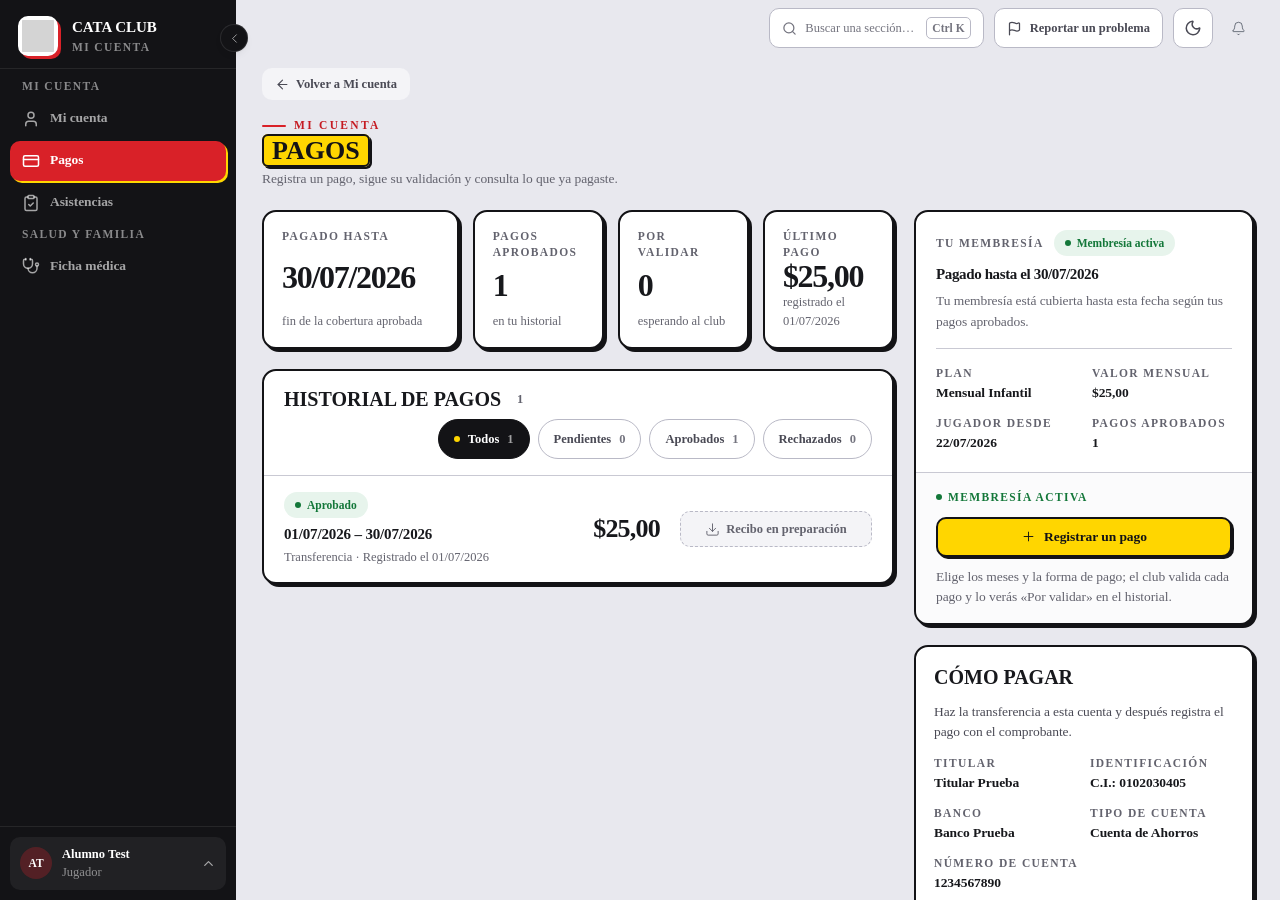
StudentPaymentsPage — the history › offers a way back when a filter empties the list
Expected: the list with test id "student-payments-table" is shown, top-left (264, 475), bottom-right (892, 582)
Click the button "Rechazados 0" at (817, 439), box top-left (762, 419), bottom-right (872, 459)
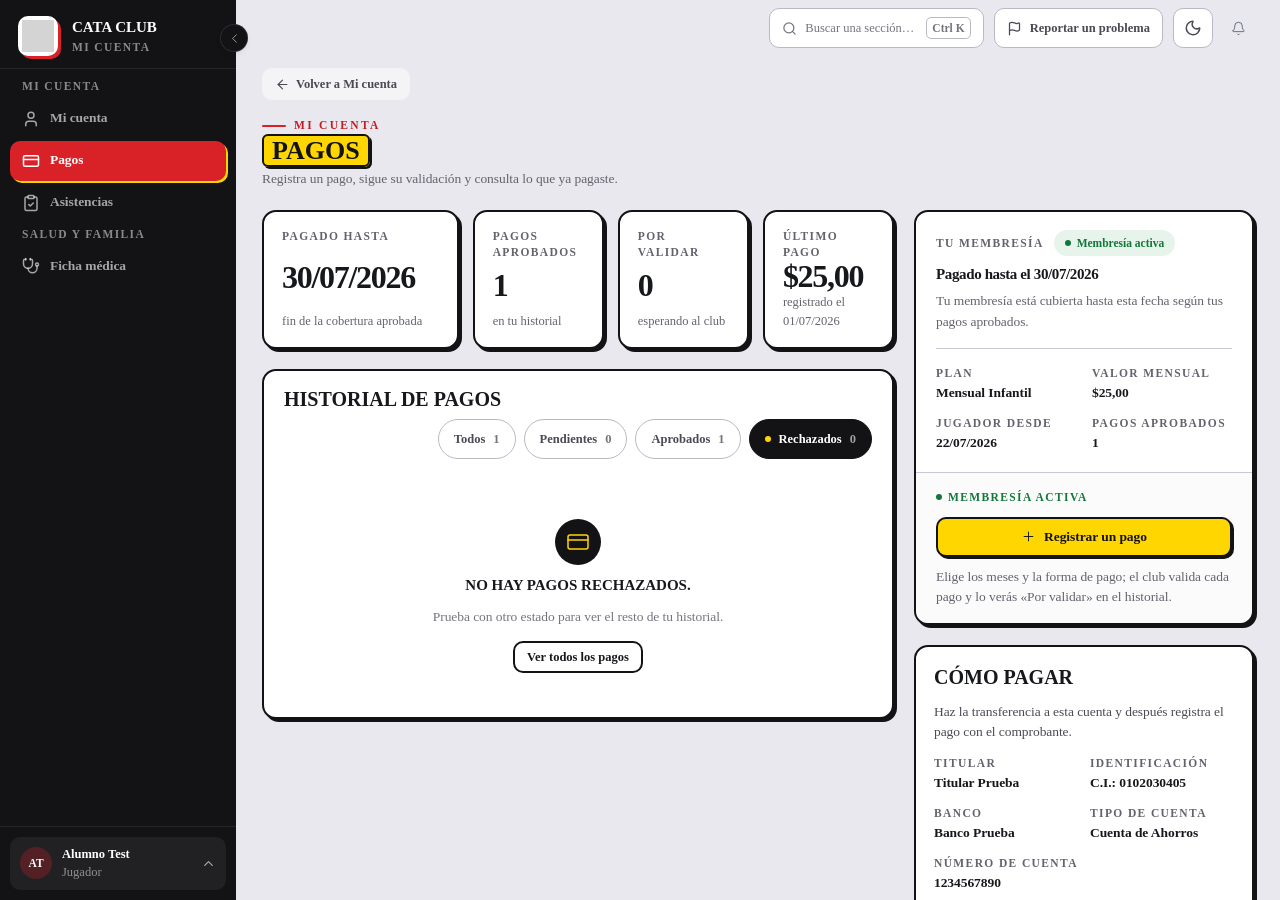
Now the text "No hay pagos rechazados." is shown, box top-left (465, 575), bottom-right (691, 597)
Now the button "Ver todos los pagos" is shown, box top-left (513, 641), bottom-right (643, 673)
